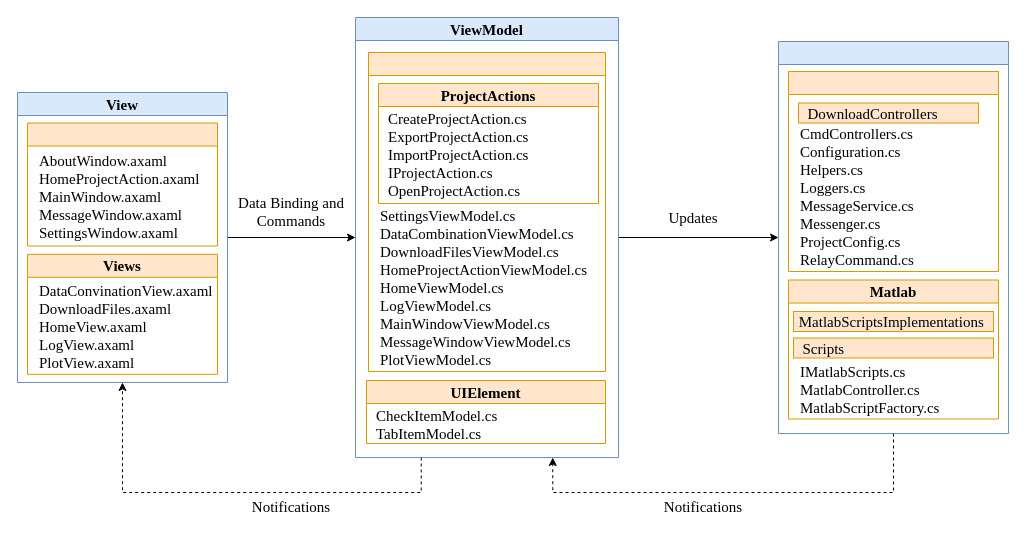
This 1026x539 diagram has some shape labels left out. Each missing label, with the box of its shape:
AppCode: (788, 70, 998, 272)
Model: (778, 40, 1008, 434)
ViewModels: (368, 52, 606, 372)
Windows: (26, 122, 218, 246)
